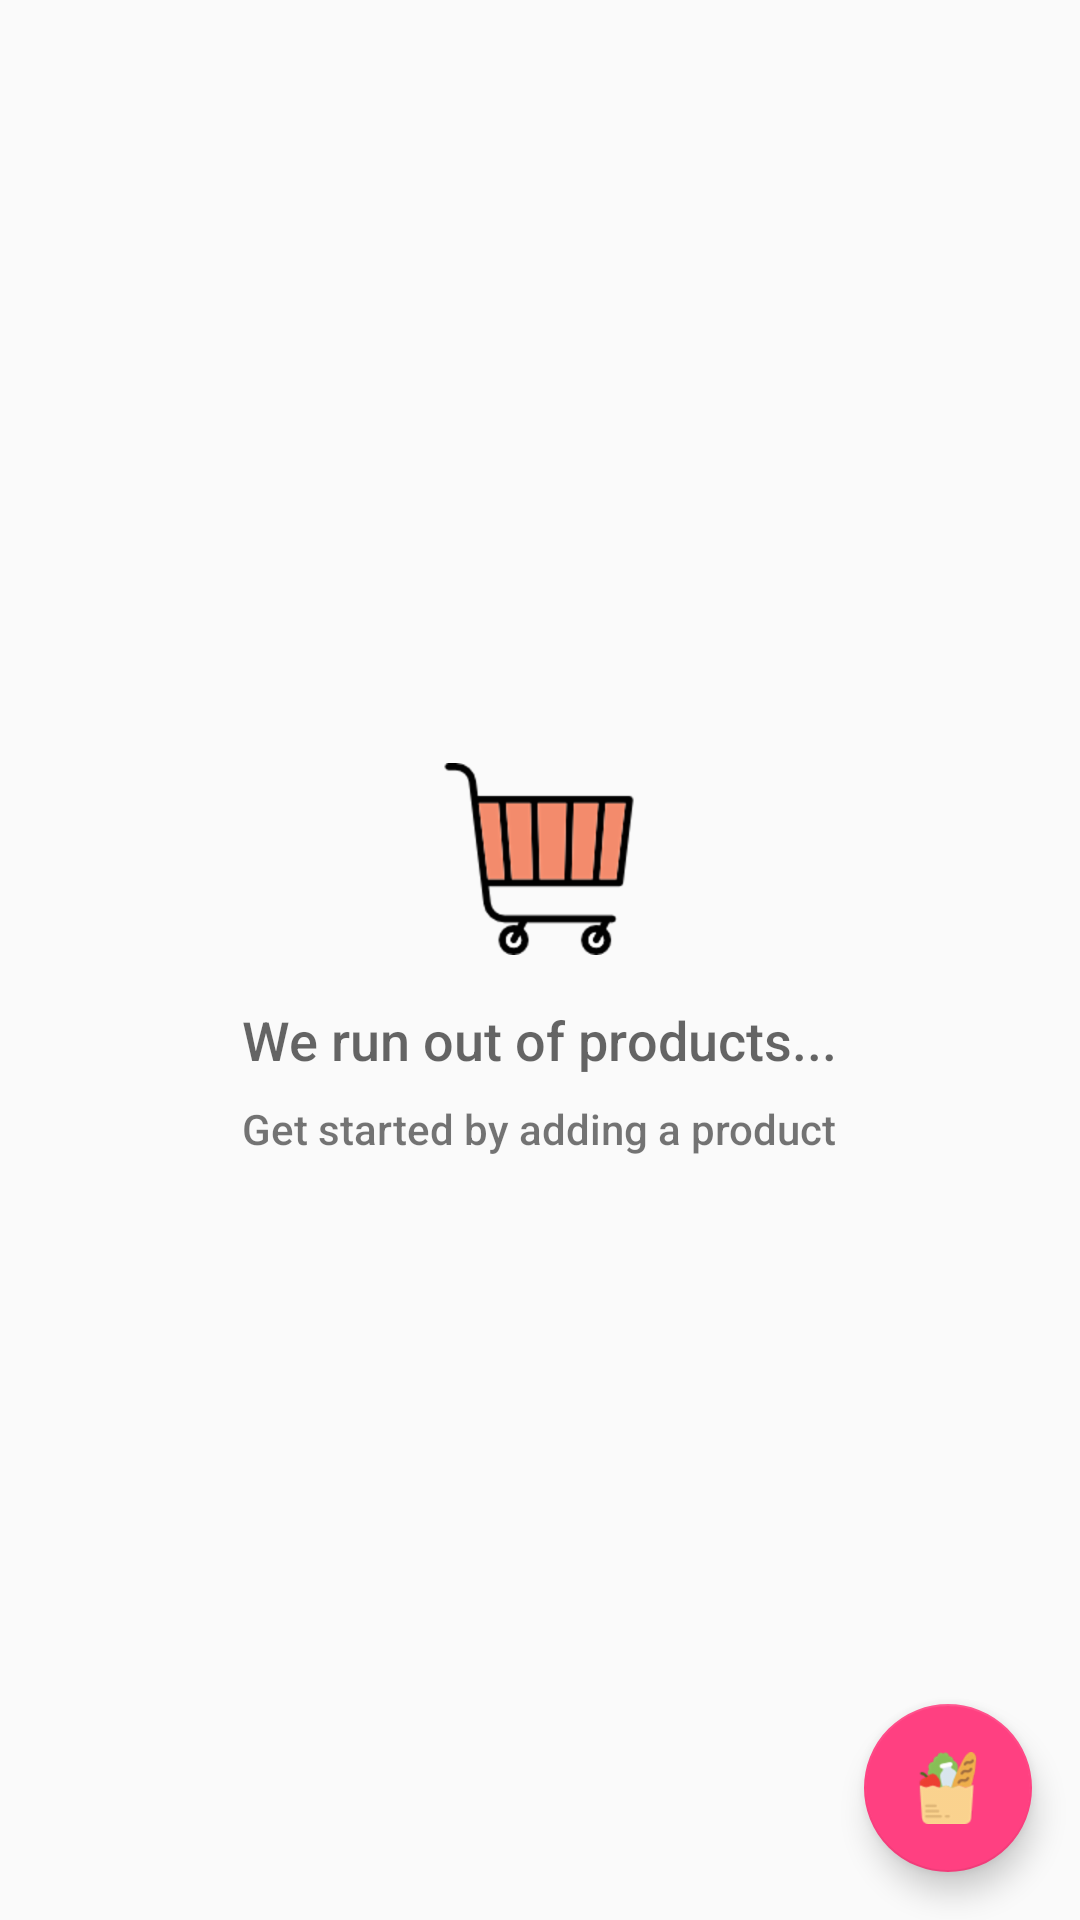

Named icons in this screenshot (1080px×1920px) and their centers, point (x, y):
Default Image when empty: point (539, 859)
fab: point (948, 1788)
